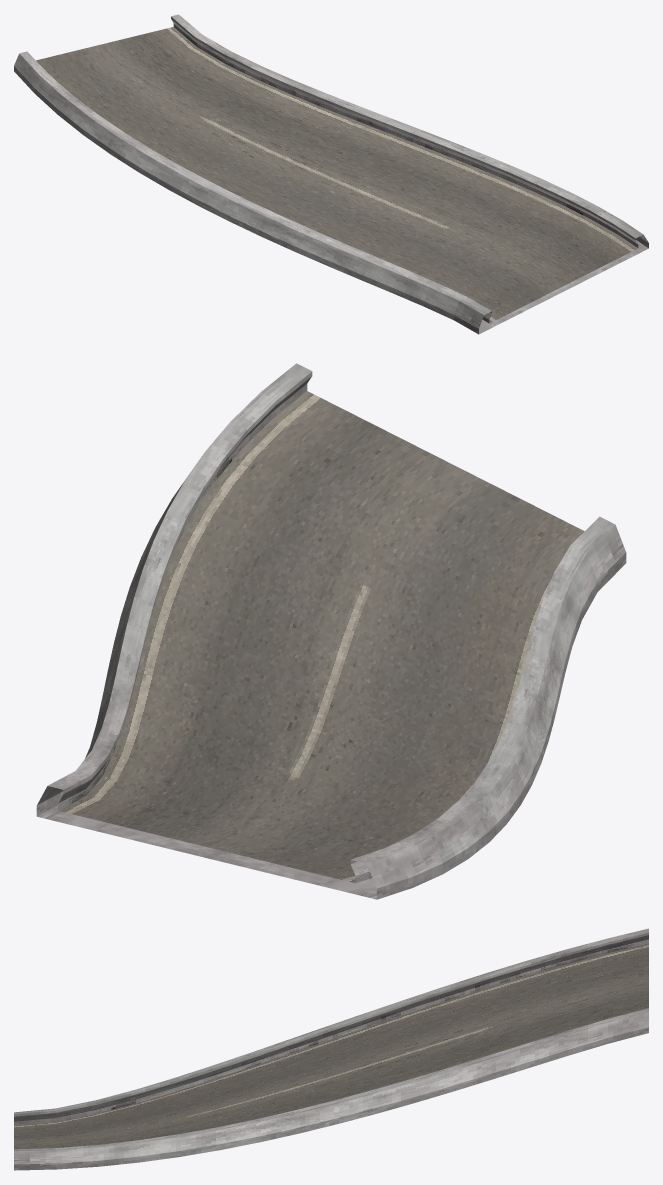
File: chicane-left1x3.glb
3 views of the same model, one above another, from view 1: azimuth 30°, elevation 25°; view 2: azimuth 150°, elevation 25°; view 3: azimuth 270°, elevation 25° (orthographic). The views are drawn at different scales.
Visible parts, largest first — view 1: road-Chicane-HalfBankedLeft-BiSlopeUp-Up2-Left1-Size3; view 2: road-Chicane-HalfBankedLeft-BiSlopeUp-Up2-Left1-Size3; view 3: road-Chicane-HalfBankedLeft-BiSlopeUp-Up2-Left1-Size3.
Part boxes in pixels (bbox=[...]): road-Chicane-HalfBankedLeft-BiSlopeUp-Up2-Left1-Size3: bbox=[14, 14, 648, 334]; road-Chicane-HalfBankedLeft-BiSlopeUp-Up2-Left1-Size3: bbox=[36, 363, 626, 899]; road-Chicane-HalfBankedLeft-BiSlopeUp-Up2-Left1-Size3: bbox=[14, 928, 648, 1170].
Size of the model in its own units: 2 by 0.5937 by 3.
2 materials, 2 textured.
